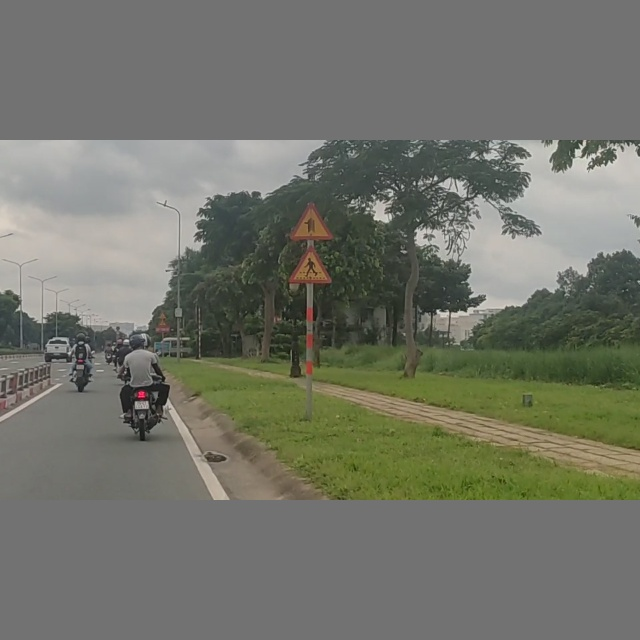W.207: (291, 203, 334, 240)
W.224: (288, 245, 333, 283)
